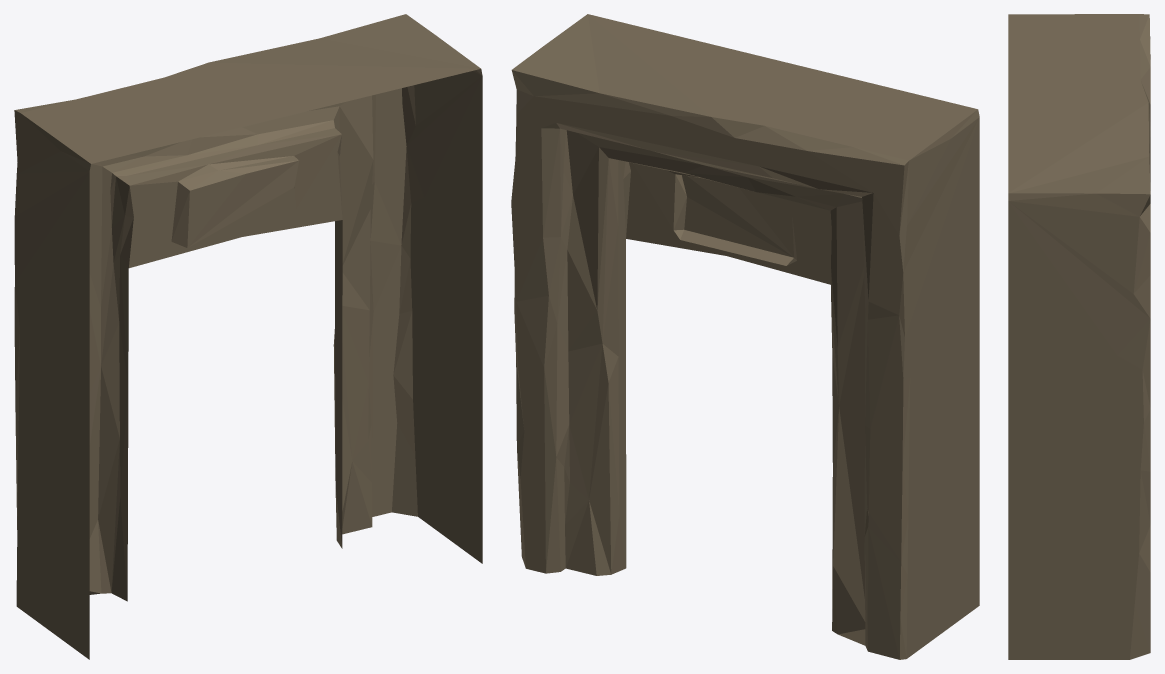
File: Door_2_1_low.fbx
3 renders of one model, left to right at view 1: azimuth 30°, elevation 25°; view 2: azimuth 150°, elevation 25°; view 3: azimuth 270°, elevation 25°, orthographic. The views are drawn at different scales.
Parts seen in each view (by area): view 1: Door_2_1_low; view 2: Door_2_1_low; view 3: Door_2_1_low.
Boxes of the visible parts, <box> form: Door_2_1_low: <box>14,14,482,659</box>; Door_2_1_low: <box>511,14,979,659</box>; Door_2_1_low: <box>1008,14,1150,659</box>.
Bounding box in the file's own units: 3 × 3.62 × 1.
